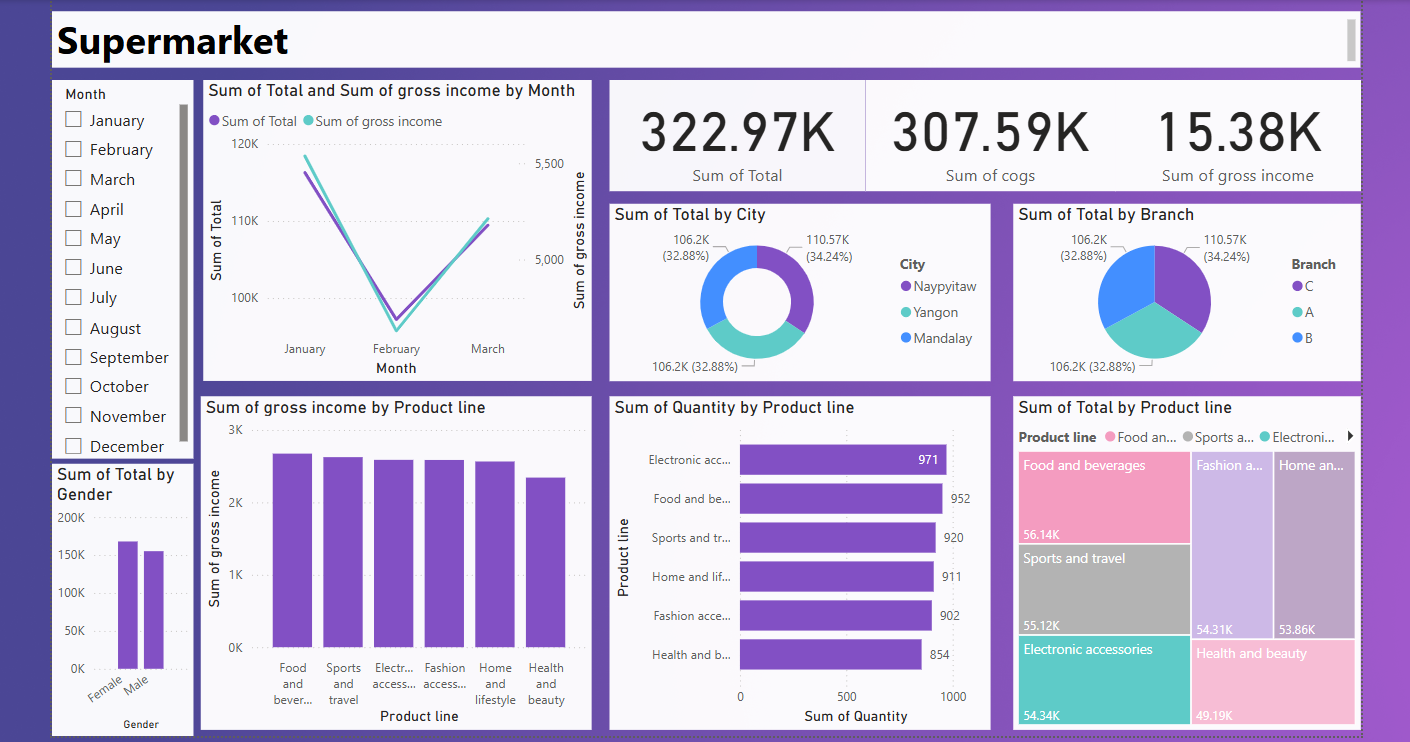

The dashboard page shown, as its layout file describes it:
{"tool":"powerbi","page":{"name":"Page 1","canvas":[1280,720],"ordinal":0},"visuals":[{"type":"card","fields":{"Values":["Sum(supermarket_sales - Sheet1.gross income)"]},"box":[1040.6,78.3,239.7,108.8],"z":0},{"type":"card","fields":{"Values":["Sum(supermarket_sales - Sheet1.Total)"]},"box":[545.4,78.3,250.7,108.8],"z":1000},{"type":"card","fields":{"Values":["Sum(supermarket_sales - Sheet1.cogs)"]},"box":[796.1,78.3,244.6,108.8],"z":2000},{"type":"pieChart","fields":{"Category":["supermarket_sales - Sheet1.Branch"],"Y":["Sum(supermarket_sales - Sheet1.Total)"]},"box":[940.4,199.3,339.9,173.6],"z":3000},{"type":"donutChart","fields":{"Y":["Sum(supermarket_sales - Sheet1.Total)"],"Category":["supermarket_sales - Sheet1.City"]},"box":[545.4,199.3,373,173.6],"z":4000},{"type":"treemap","fields":{"Group":["supermarket_sales - Sheet1.Product line"],"Values":["Sum(supermarket_sales - Sheet1.Total)"]},"box":[940.4,387.6,339.9,326.5],"z":5000},{"type":"clusteredColumnChart","fields":{"Category":["supermarket_sales - Sheet1.Gender"],"Y":["Sum(supermarket_sales - Sheet1.Total)"]},"box":[0,453.7,138.2,266.6],"z":6000},{"type":"lineChart","fields":{"Category":["supermarket_sales - Sheet1.Date.Variation.Date Hierarchy.Month"],"Y":["Sum(supermarket_sales - Sheet1.Total)"],"Y2":["Sum(supermarket_sales - Sheet1.gross income)"]},"box":[148,78.3,380.3,294.7],"z":7000},{"type":"slicer","fields":{"Values":["supermarket_sales - Sheet1.Date.Variation.Date Hierarchy.Month"]},"box":[0,78.3,138.2,370.5],"z":8000},{"type":"columnChart","fields":{"Category":["supermarket_sales - Sheet1.Product line"],"Y":["Sum(supermarket_sales - Sheet1.gross income)"]},"box":[145.5,387.6,382.7,326.5],"z":9000},{"type":"clusteredBarChart","fields":{"Category":["supermarket_sales - Sheet1.Product line"],"Y":["Sum(supermarket_sales - Sheet1.Quantity)"]},"box":[545.4,387.6,373,326.5],"z":10000},{"type":"textbox","box":[0,11,1280.3,55],"z":11000}]}

Visuals, with their boxes in screenshot pixels (x1, y1, x2, y2):
card - Sum(supermarket_sales - Sheet1.gross income): 1109 76 1352 186
card - Sum(supermarket_sales - Sheet1.Total): 605 76 860 186
card - Sum(supermarket_sales - Sheet1.cogs): 860 76 1109 186
pieChart - supermarket_sales - Sheet1.Branch x Sum(supermarket_sales - Sheet1.Total): 1007 199 1352 375
donutChart - Sum(supermarket_sales - Sheet1.Total) x supermarket_sales - Sheet1.City: 605 199 984 375
treemap - supermarket_sales - Sheet1.Product line x Sum(supermarket_sales - Sheet1.Total): 1007 390 1352 722
clusteredColumnChart - supermarket_sales - Sheet1.Gender x Sum(supermarket_sales - Sheet1.Total): 51 457 192 728
lineChart - supermarket_sales - Sheet1.Date.Variation.Date Hierarchy.Month x Sum(supermarket_sales - Sheet1.Total): 202 76 588 375
slicer - supermarket_sales - Sheet1.Date.Variation.Date Hierarchy.Month: 51 76 192 452
columnChart - supermarket_sales - Sheet1.Product line x Sum(supermarket_sales - Sheet1.gross income): 199 390 588 722
clusteredBarChart - supermarket_sales - Sheet1.Product line x Sum(supermarket_sales - Sheet1.Quantity): 605 390 984 722
textbox: 51 8 1352 63
